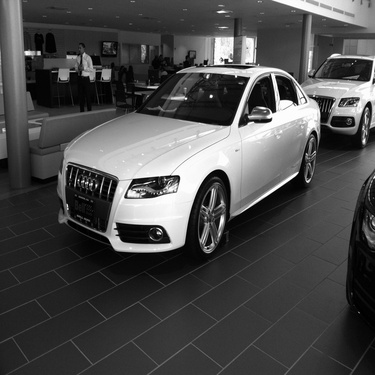car: (54, 58, 327, 271), (301, 39, 370, 159), (327, 154, 371, 335)
